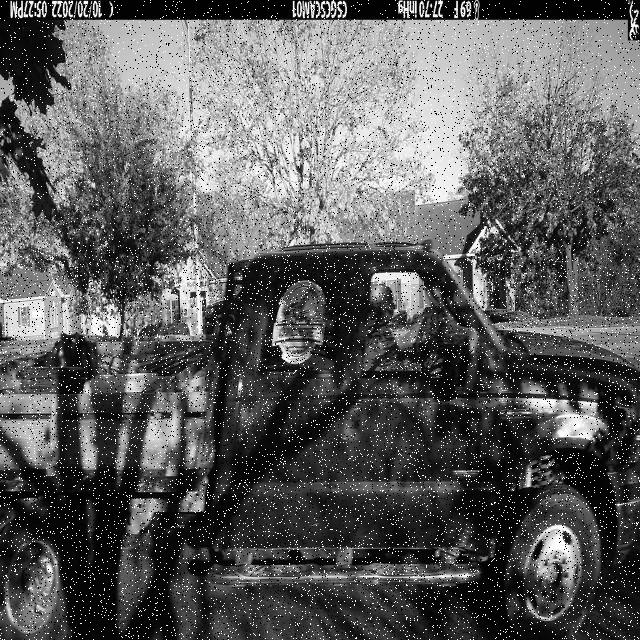Pickup- Utility: (0, 244, 640, 640)
